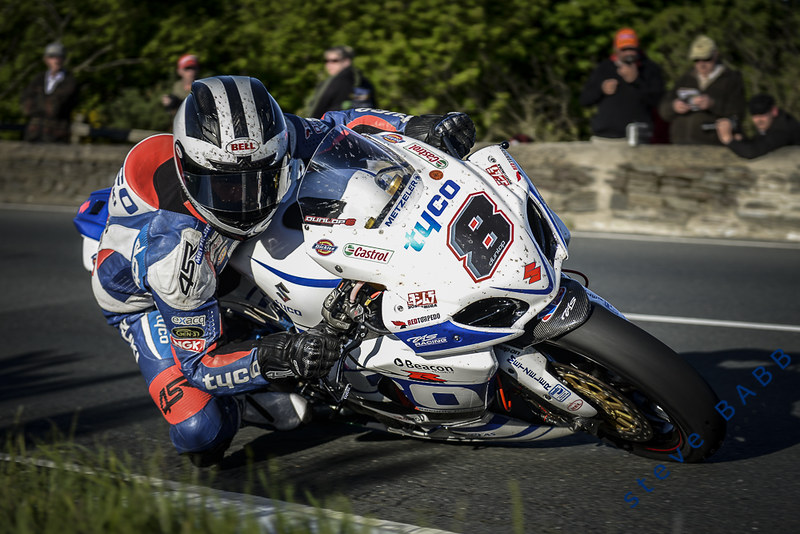helmet: (178, 87, 293, 220)
